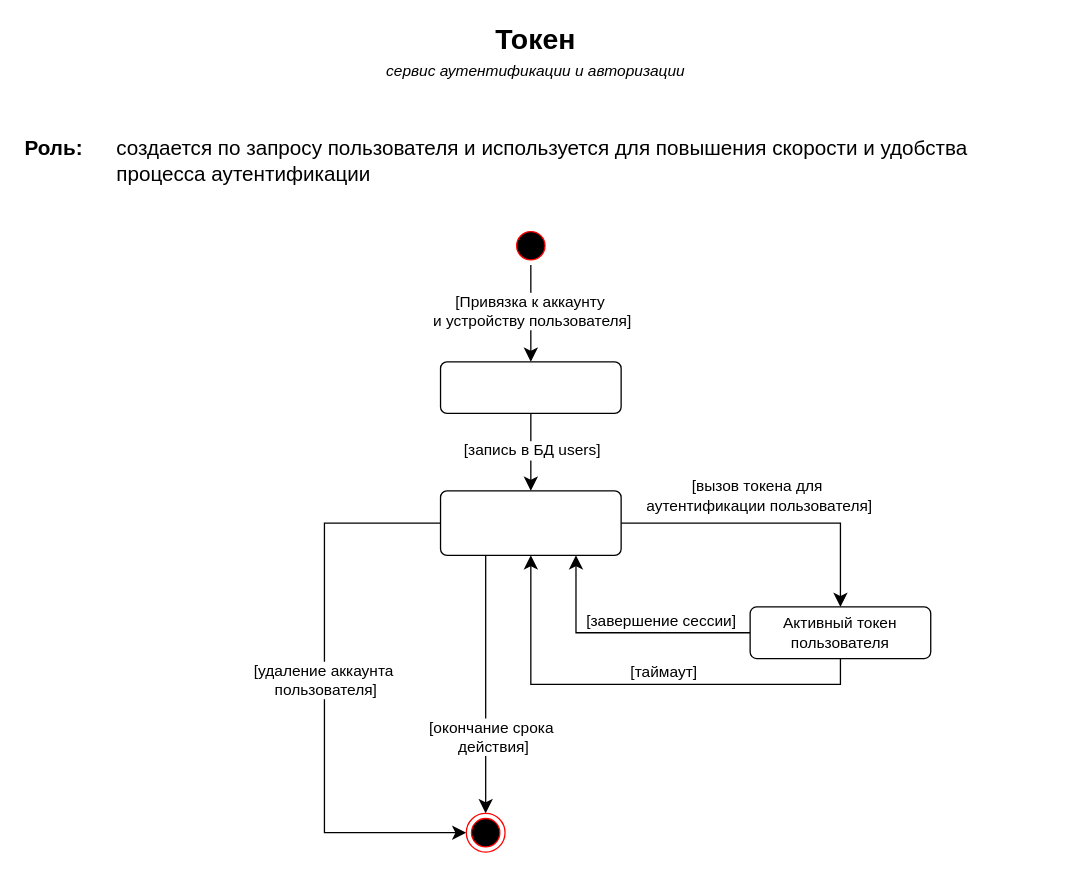
This 1071x875 diagram has some shape labels left out. The box of each missing label's shape, as (x1, y1, x2, y2) in pixels:
Сохраненный токен пользователя: (439, 490, 621, 555)
Токен пользователя: (439, 361, 621, 413)
